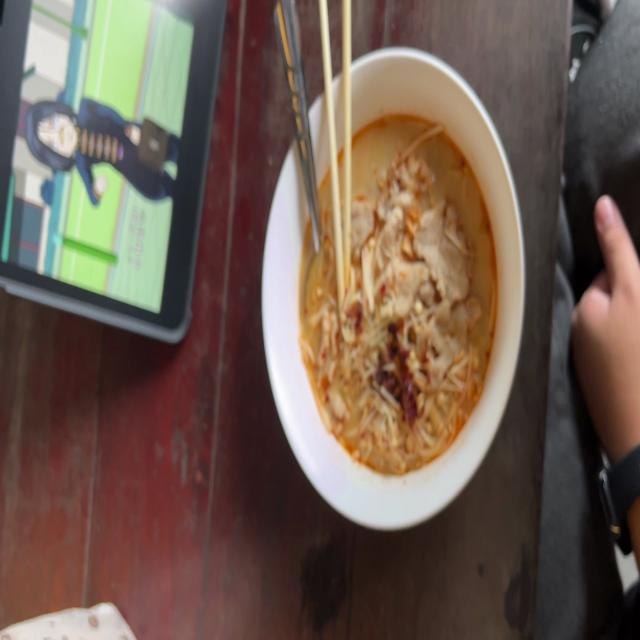noodle: (294, 110, 503, 477)
